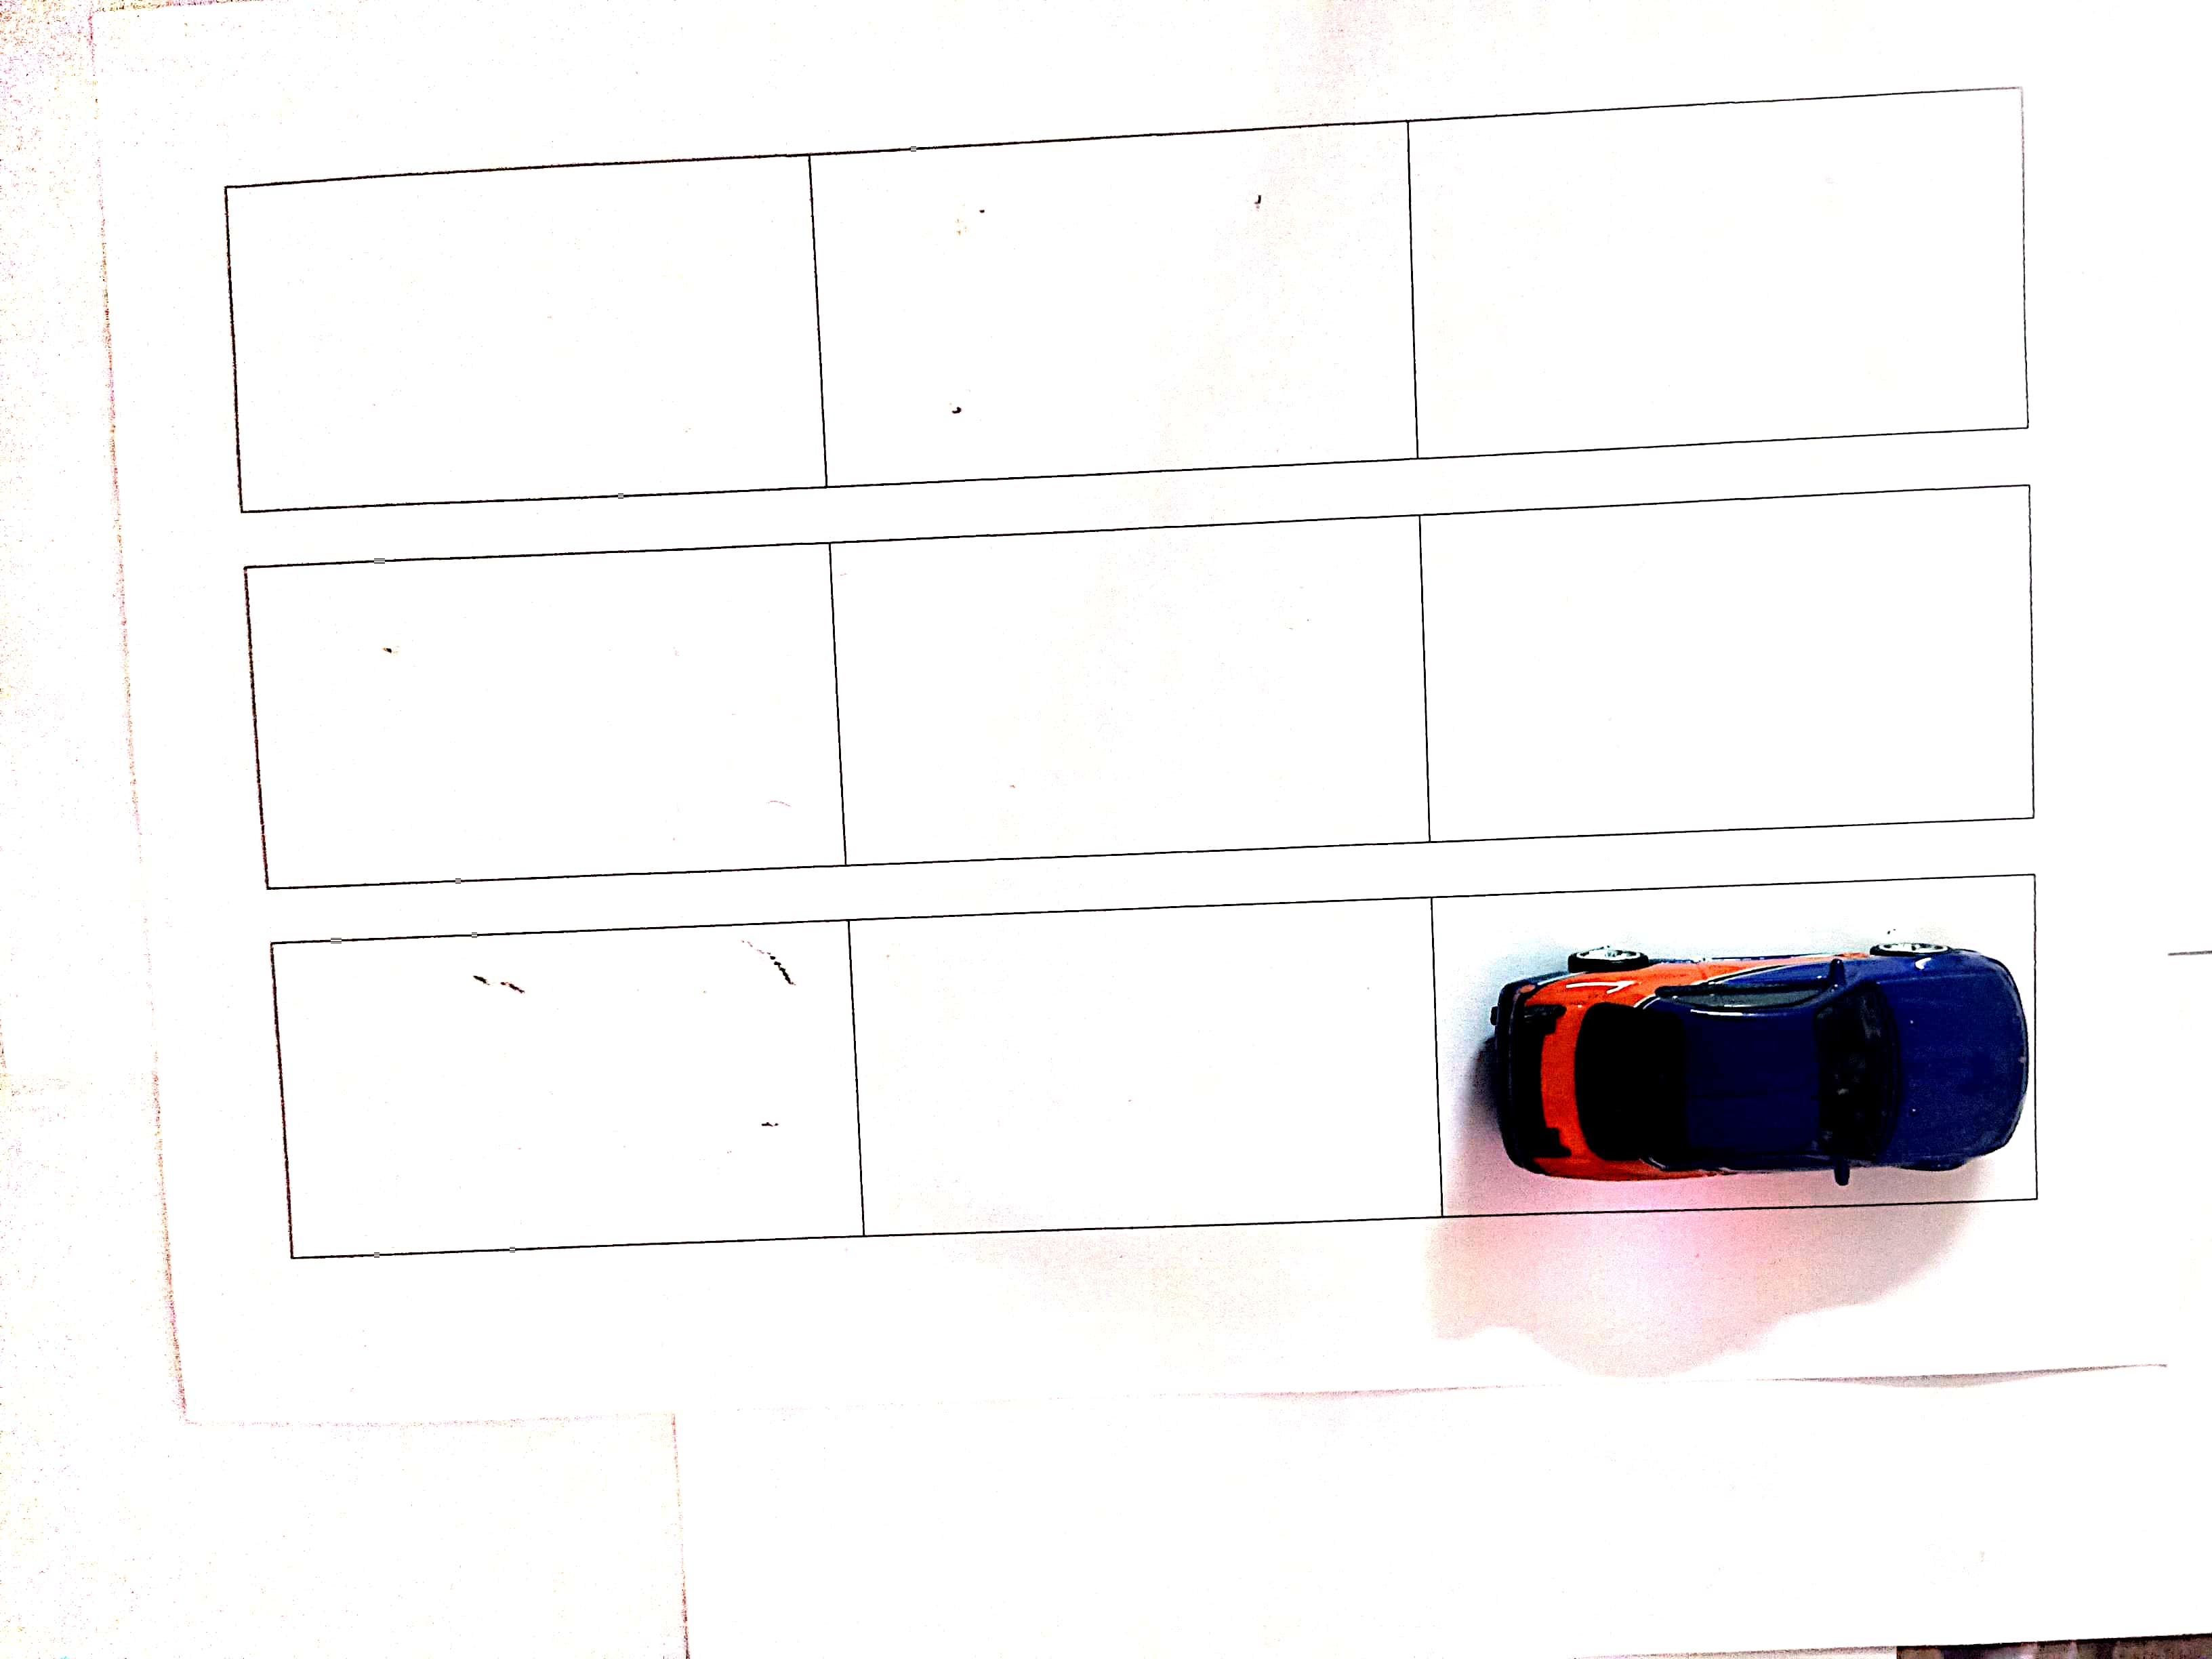Busy: (1432, 873, 2050, 1223)
Free: (228, 152, 827, 504), (244, 542, 838, 892), (833, 119, 1407, 477), (1414, 101, 2022, 434), (829, 512, 1428, 843), (853, 897, 1432, 1230), (1426, 498, 2022, 814), (272, 922, 848, 1239)
